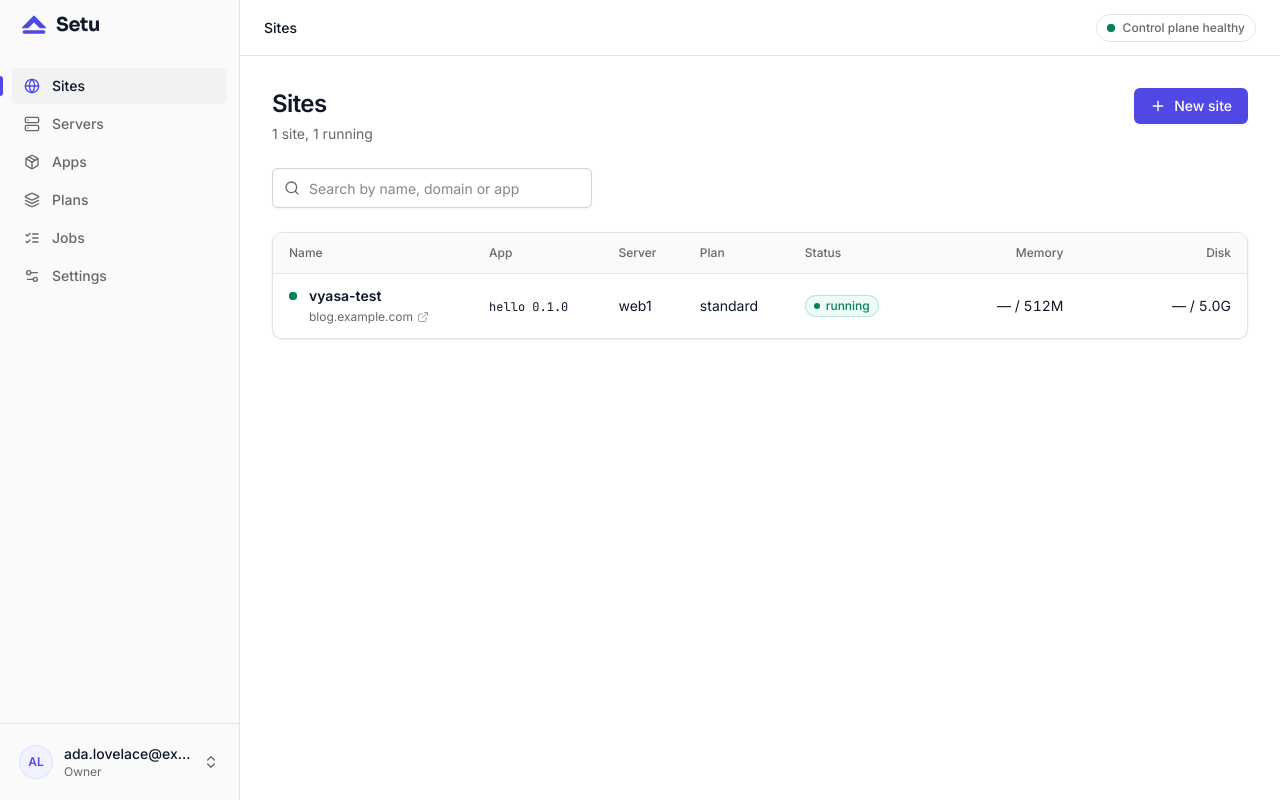
it: app shell › renders the navigation, status pill and operator menu
Expected: the link "Sites" is shown, left=12, top=68, right=227, bottom=104
Expected: the link "Servers" is shown, left=24, top=115, right=104, bottom=132
Click the button with aria-label "account menu for ada.lovelace@example.com": {"x": 120, "y": 762} left=12, top=736, right=227, bottom=788
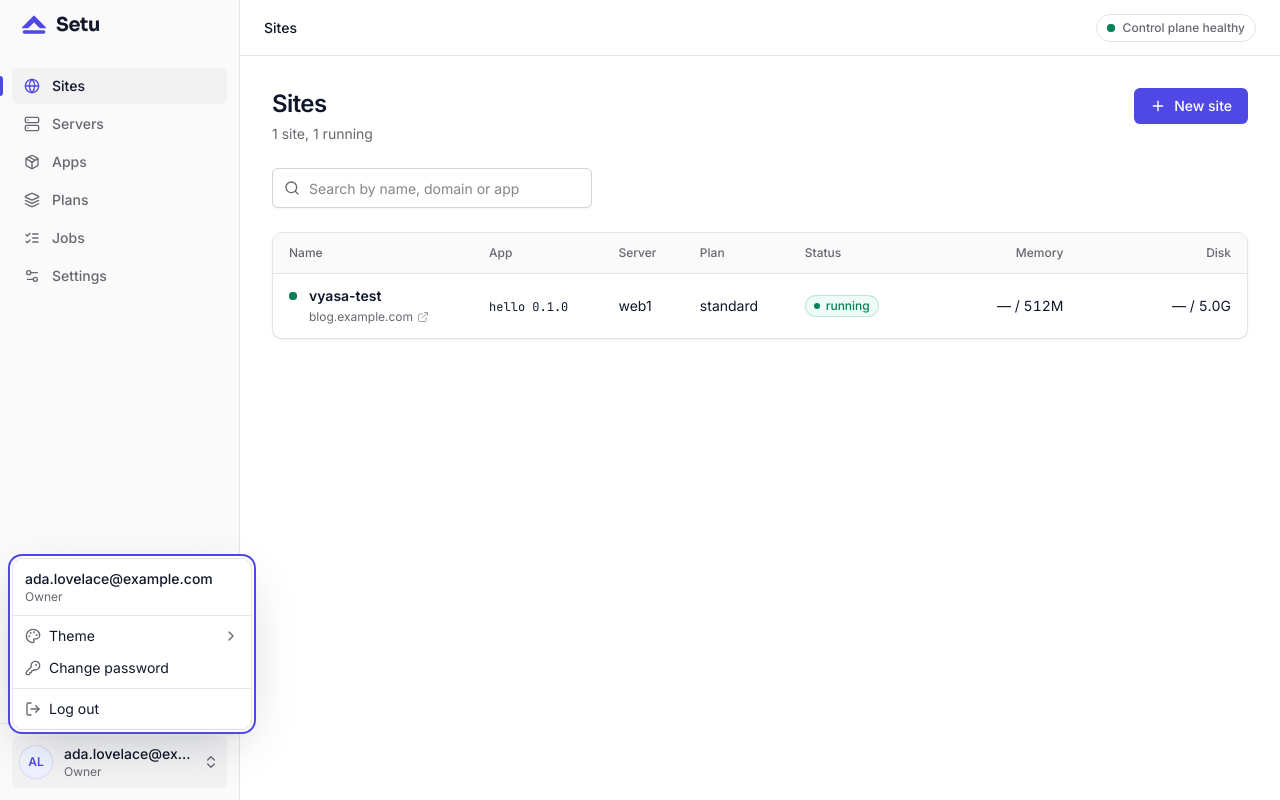
Expected: the 1st text "owner" is shown, left=25, top=589, right=63, bottom=604
Expected: the menu item "Change password" is shown, left=25, top=659, right=169, bottom=676
Expected: the menu item "Theme" is shown, left=25, top=627, right=239, bottom=644
